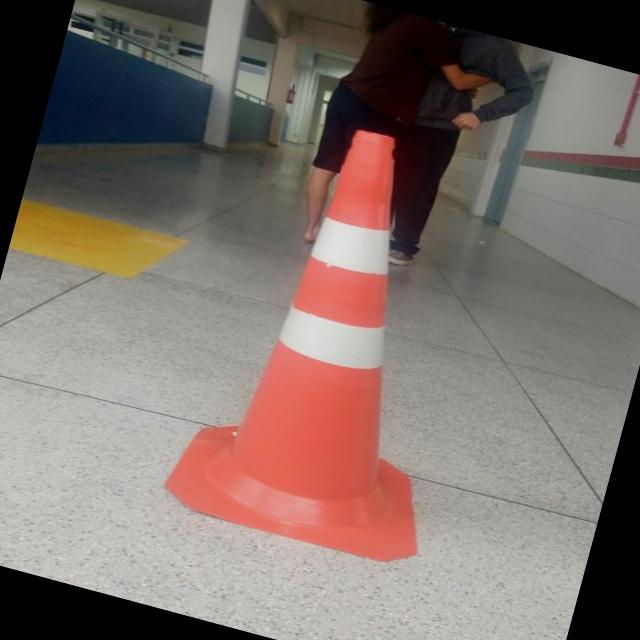Cone: (170, 103, 498, 579)
